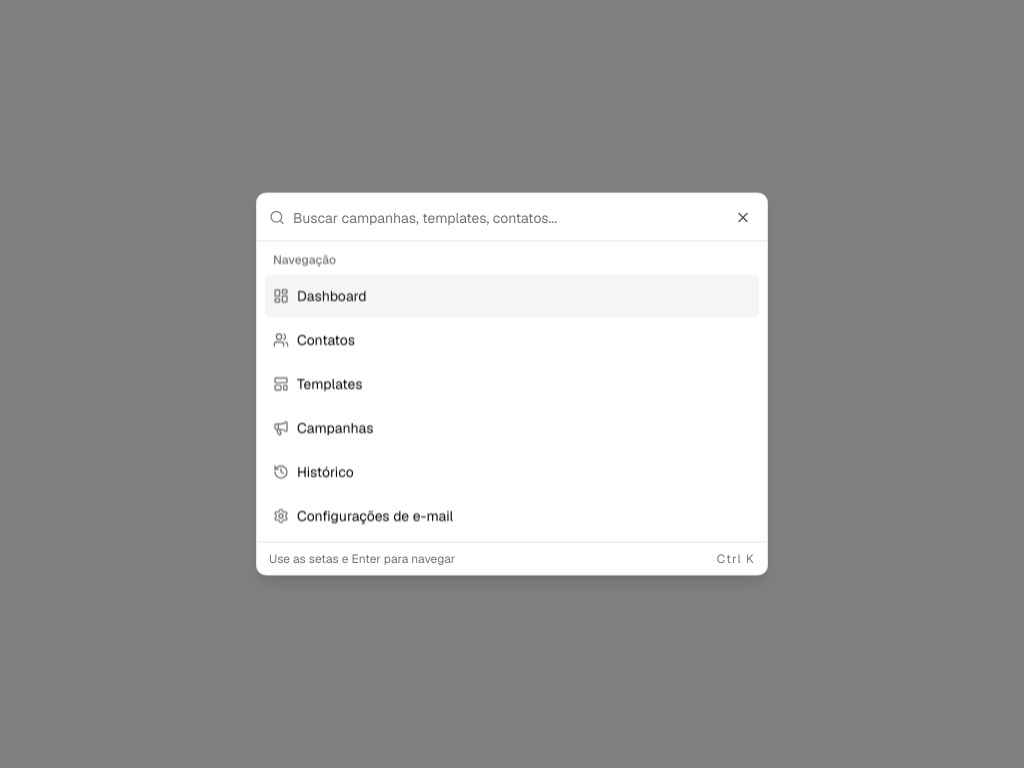
CommandMenu › abre e permite buscar resultados
Step 1. Type "verão" into the dropdown with placeholder "Buscar campanhas, templates, contatos..." → (524, 217), box [293, 193, 755, 241]
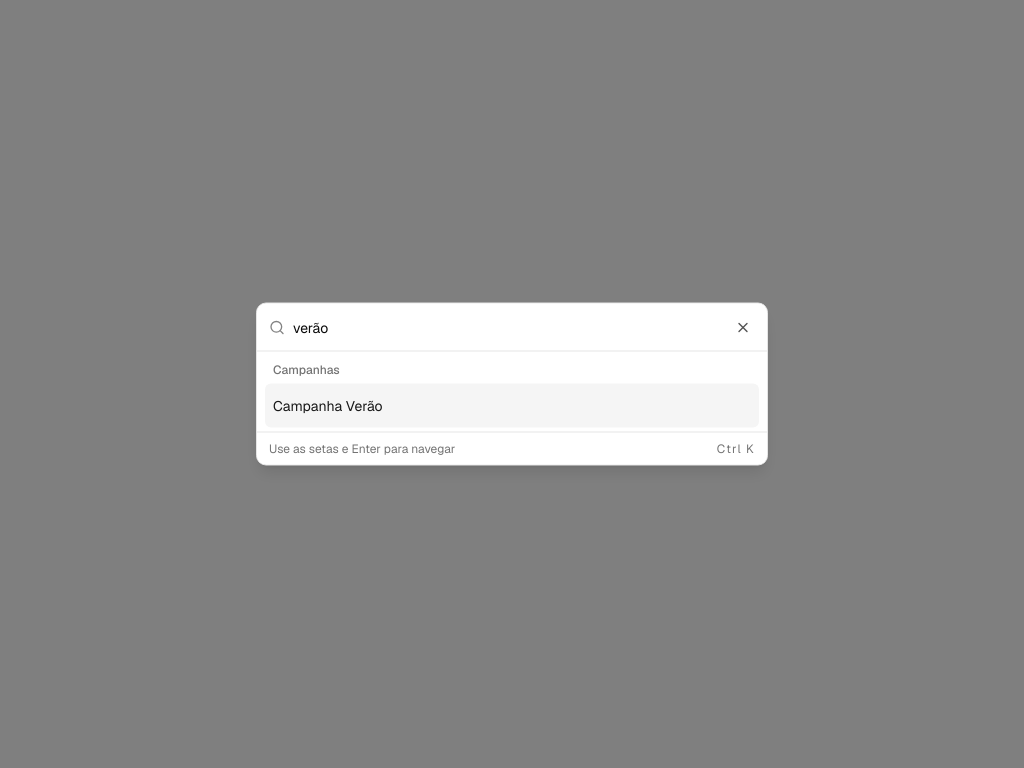
Now the text "Campanha Verão" is shown, box [273, 396, 383, 416]
